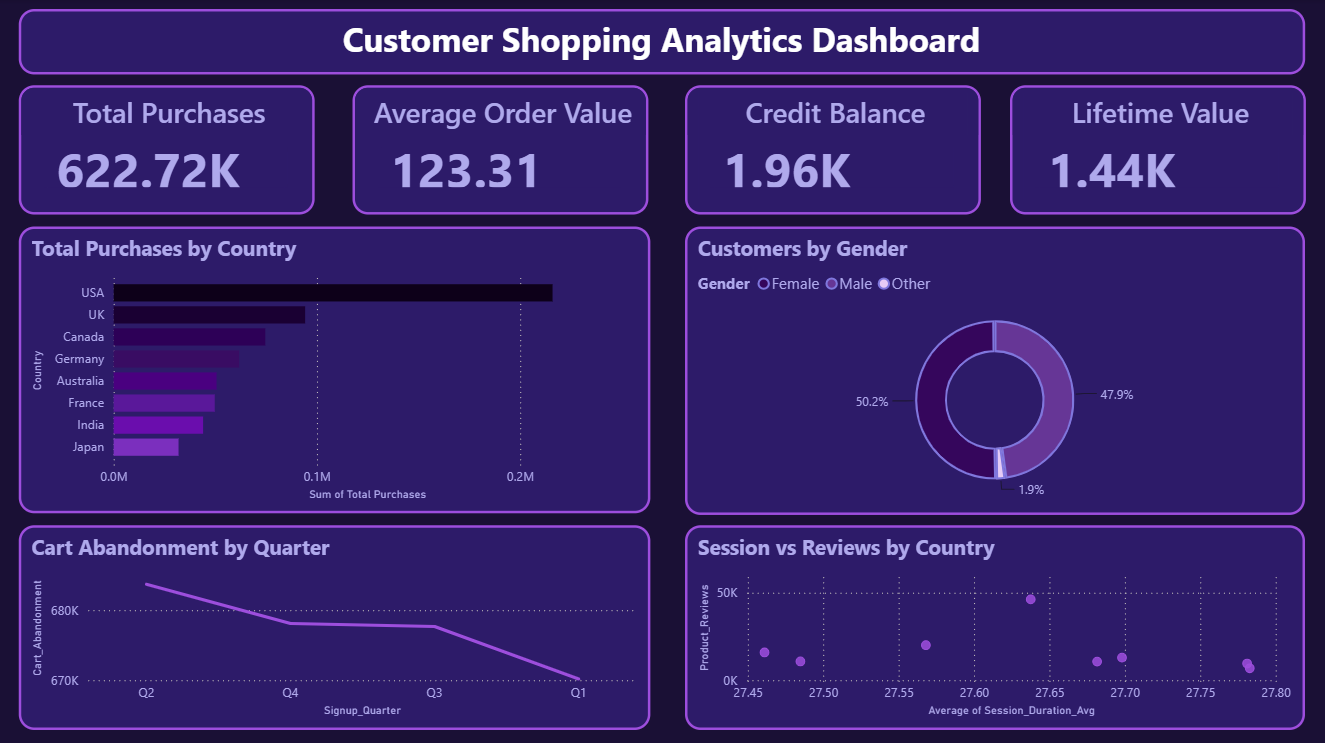

What the dashboard file says about the page in this screenshot:
{"tool":"powerbi","page":{"name":"Page 1","canvas":[1280,720],"ordinal":0},"visuals":[{"type":"cardVisual","title":"Total Purchases","fields":{"Data":["Sum(cleaned_customer_data.Total_Purchases)"]},"box":[17.8,83.7,285.4,124.9],"z":0},{"type":"cardVisual","title":"Average Order Value","fields":{"Data":["Avg(cleaned_customer_data.Average_Order_Value)"]},"box":[340.3,83.7,285.4,124.9],"z":1000},{"type":"cardVisual","title":"Credit Balance","fields":{"Data":["Avg(cleaned_customer_data.Credit_Balance)"]},"box":[661.4,83.7,285.4,124.9],"z":2000},{"type":"cardVisual","title":"Lifetime Value","fields":{"Data":["Avg(cleaned_customer_data.Lifetime_Value)"]},"box":[974.3,83.7,285.4,124.9],"z":3000},{"type":"clusteredBarChart","title":"Total Purchases by Country","fields":{"Category":["cleaned_customer_data.Country"],"Y":["Sum(cleaned_customer_data.Total_Purchases)"]},"box":[17.8,219.6,609.3,277.2],"z":4000},{"type":"donutChart","title":"Customers by Gender","fields":{"Category":["cleaned_customer_data.Gender"],"Y":["Sum(cleaned_customer_data.Total_Purchases)"]},"box":[661.4,219.6,598.3,278.6],"z":5000},{"type":"lineChart","title":"Cart Abandonment by Quarter","fields":{"Category":["cleaned_customer_data.Signup_Quarter"],"Y":["Sum(cleaned_customer_data.Cart_Abandonment_Rate)"]},"box":[17.8,507.7,609.3,197.6],"z":6000},{"type":"scatterChart","title":"Session vs Reviews by Country","fields":{"X":["Avg(cleaned_customer_data.Session_Duration_Avg)"],"Y":["Sum(cleaned_customer_data.Product_Reviews_Written)"],"Category":["cleaned_customer_data.Country"]},"box":[661.4,507.7,598.3,197.6],"z":7000},{"type":"textbox","box":[17.8,9.6,1241.9,63.1],"z":8000}]}

Visuals, with their boxes in screenshot pixels (x1, y1, x2, y2), scaled from the page's 1280x720 canvas onto the 1325x743 screenshot:
"Total Purchases" cardVisual: (18, 86, 314, 215)
"Average Order Value" cardVisual: (352, 86, 648, 215)
"Credit Balance" cardVisual: (685, 86, 980, 215)
"Lifetime Value" cardVisual: (1009, 86, 1304, 215)
"Total Purchases by Country" clusteredBarChart: (18, 227, 649, 513)
"Customers by Gender" donutChart: (685, 227, 1304, 514)
"Cart Abandonment by Quarter" lineChart: (18, 524, 649, 728)
"Session vs Reviews by Country" scatterChart: (685, 524, 1304, 728)
textbox: (18, 10, 1304, 75)
